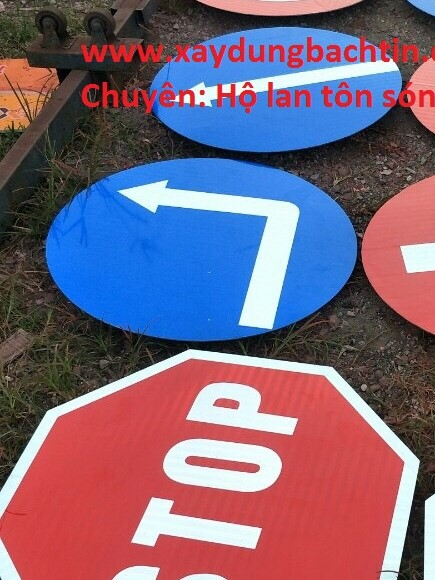Turn_left: (37, 152, 362, 351)
